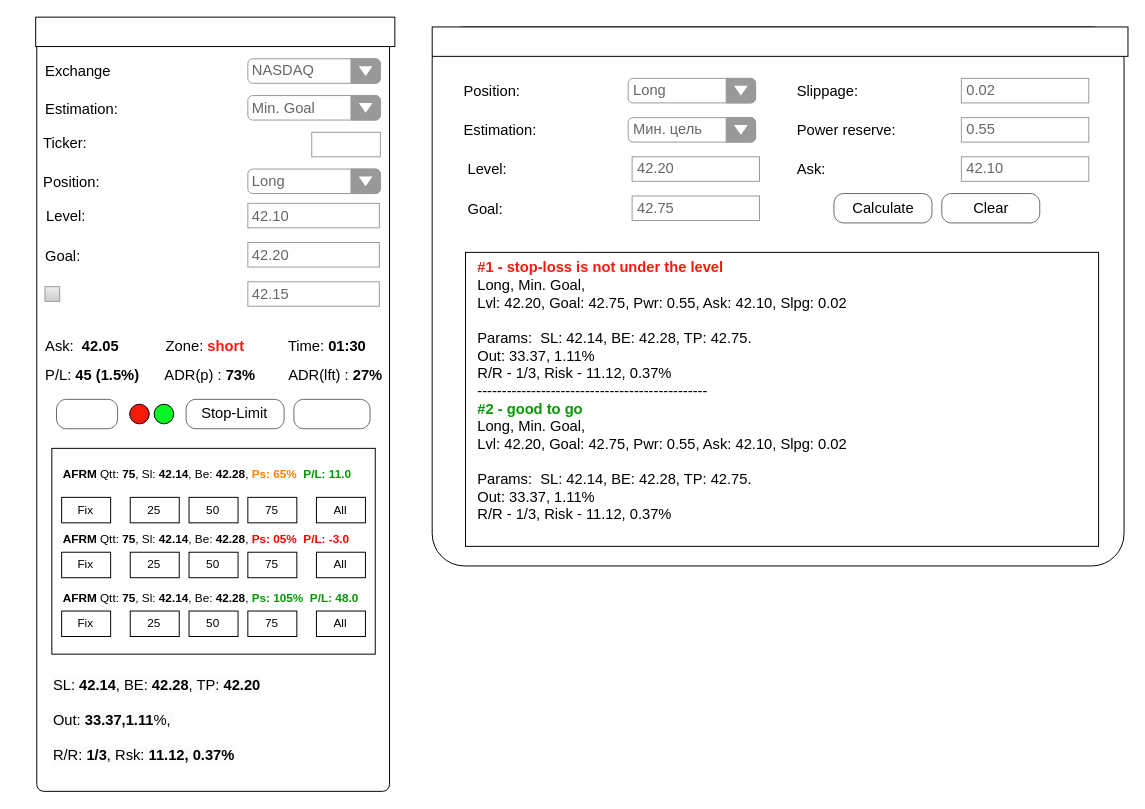
Some shapes in this 1145 by 809 pixel diagram are drawn without their labels. The centre of each missing label's shape, as x and y in pixels:
"DKNG" belongs at point 345,144.
"Limit" belongs at point 331,413.
"Lock" belongs at point 87,413.
"Tech. SL:" belongs at point 52,293.
"Trade" belongs at point 215,31.
"Калькулятор" belongs at point 779,41.
